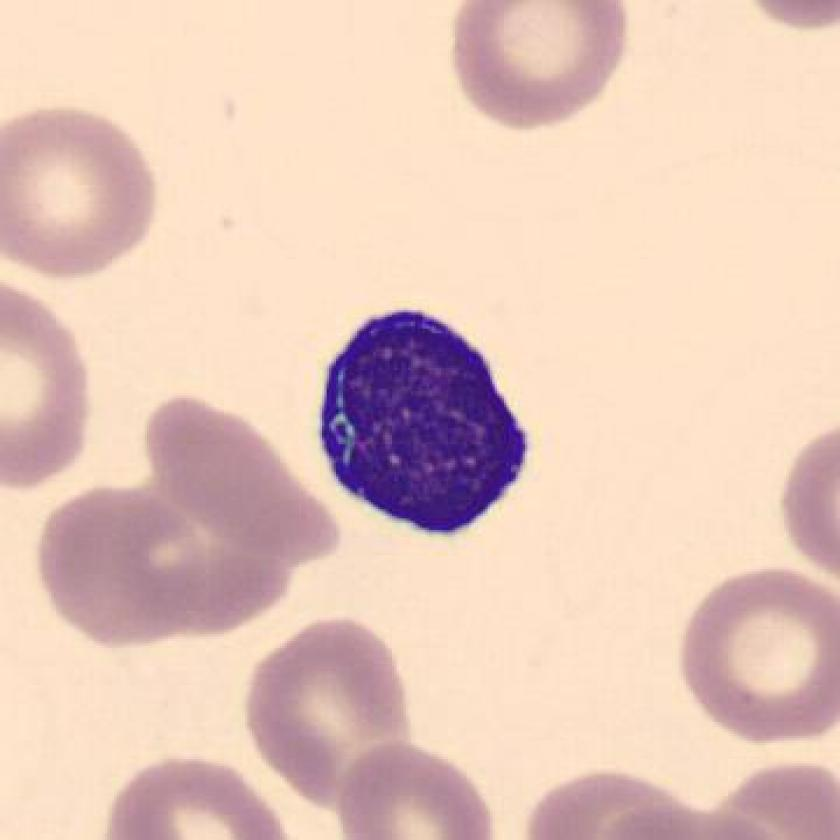lymphocyte: (305, 297, 550, 547)
